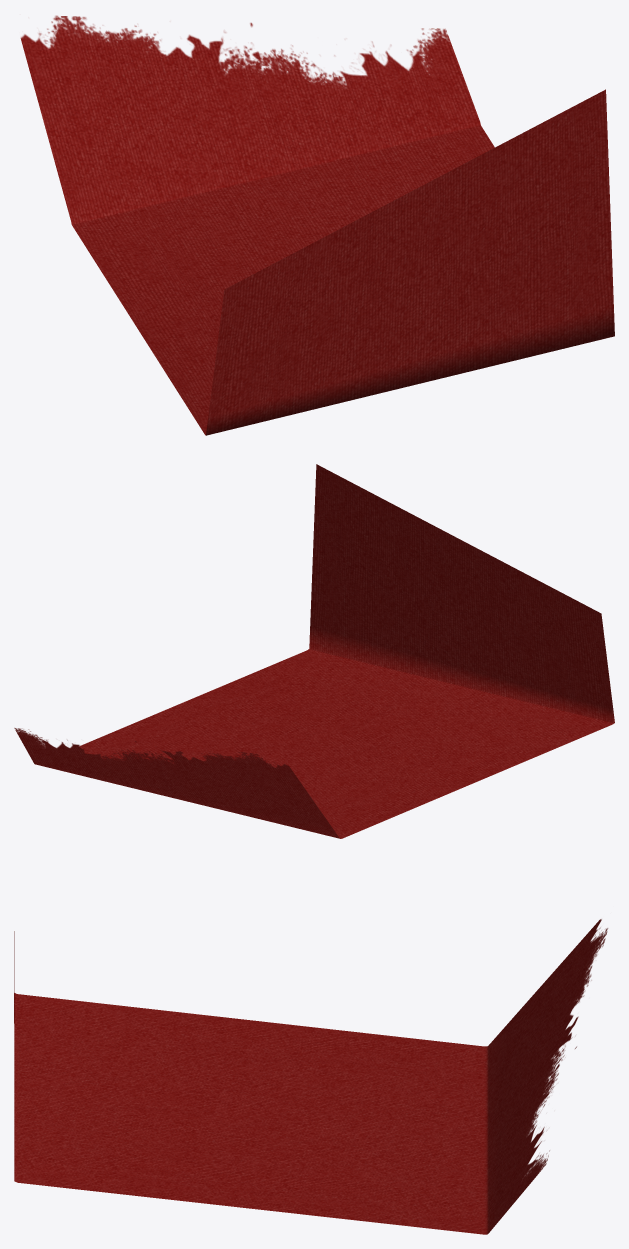
Rendered from clothc.glb.
3 views of the same model, one above another, from view 1: azimuth 30°, elevation 25°; view 2: azimuth 150°, elevation 25°; view 3: azimuth 270°, elevation 25° (orthographic). The views are drawn at different scales.
Visible parts, largest first — view 1: Cloth; view 2: Cloth; view 3: Cloth.
Boxes of the visible parts, bbox=[...] form: Cloth: bbox=[20, 15, 614, 435]; Cloth: bbox=[14, 464, 614, 838]; Cloth: bbox=[14, 919, 607, 1234].
Bounding box in the file's own units: 8.37 × 3.81 × 8.79.
Materials: 1 (1 with a texture image).
